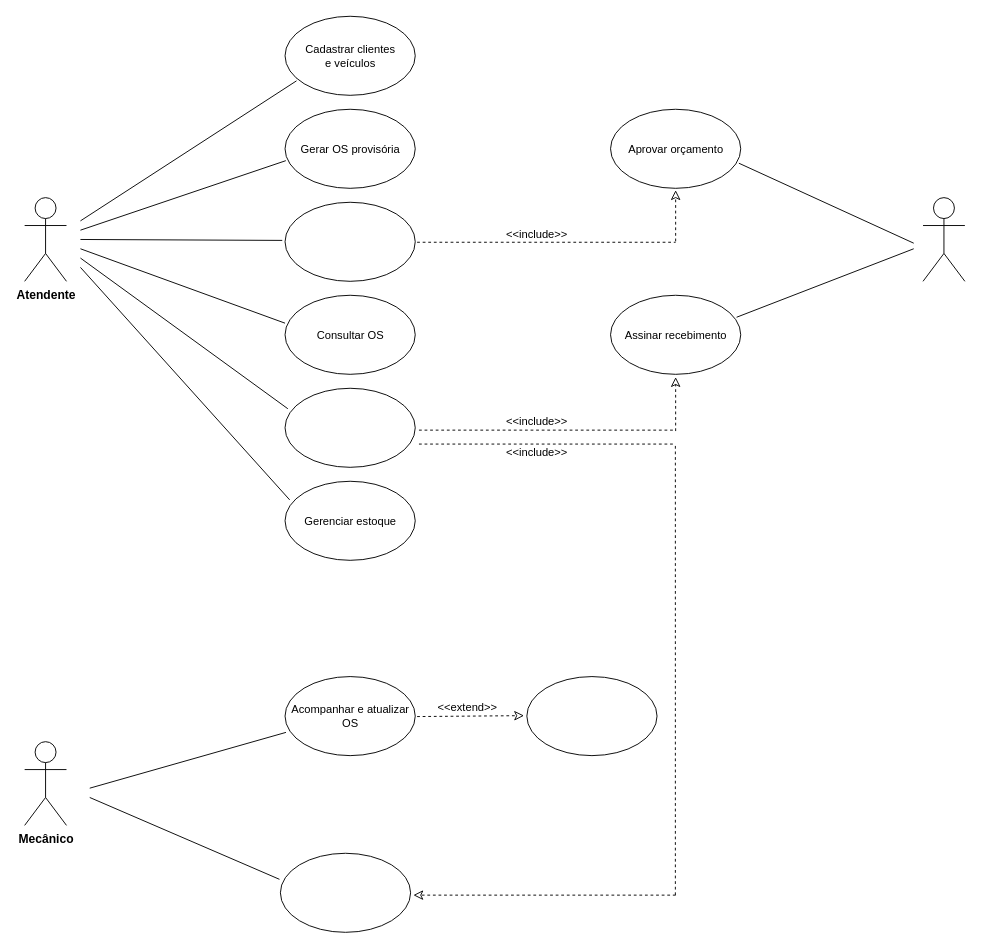
Image size: 981x949. Some labels were removed from this diagram. The shapes that lost their labels are listed below. From the top down, each one's centre as x and y in pixels, then its label:
At [349,241]: "Efetivar OS".
At [943,239]: "Cliente".
At [349,427]: "Calcular valor final e registrar pagamento".
At [591,716]: "Registrar problema crítico".
At [345,892]: "Gerar laudo técnico final".
